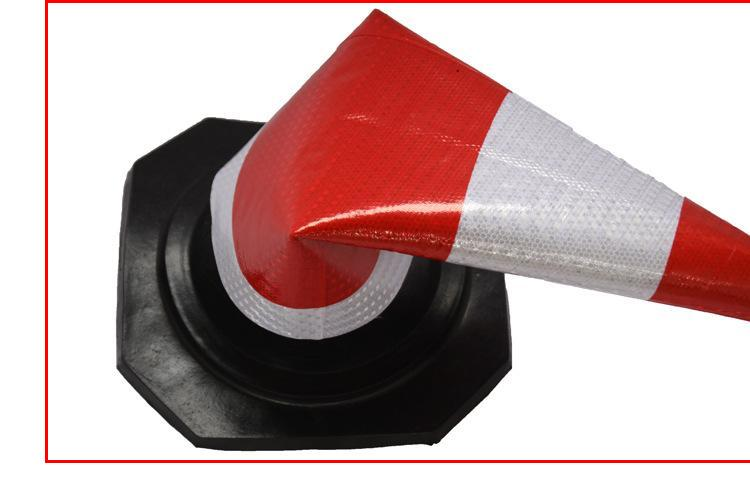traffic_cone: (60, 1, 750, 461)
